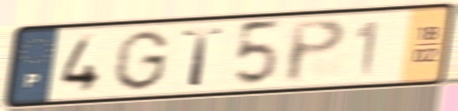1: (354, 18, 380, 77)
4: (58, 32, 103, 94)
5: (230, 17, 288, 91)
G: (109, 28, 172, 93)
P: (284, 16, 350, 86)
T: (180, 25, 227, 88)
